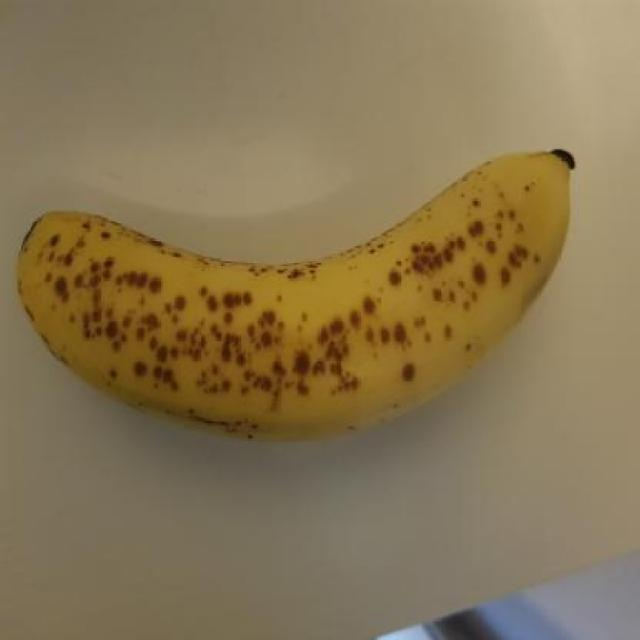Banana: (14, 144, 580, 442)
